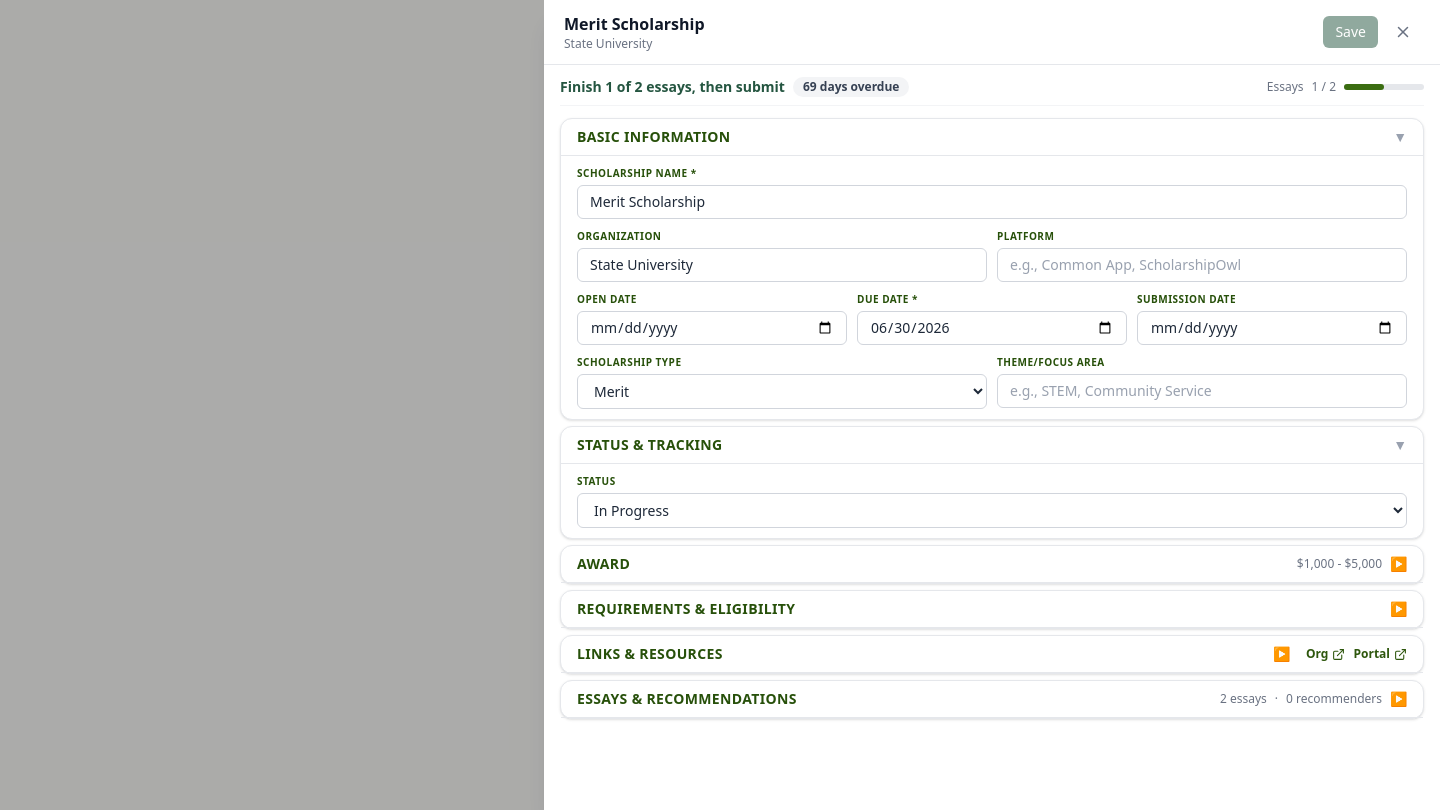
Test: ApplicationPanel › shows and clears the sticky save bar when a field changes and is discarded
Expected: the text "Unsaved changes are present." is not shown
Replace the text in the field labelled "Organization" with "Updated University" at (782, 265), box [577, 248, 987, 282]
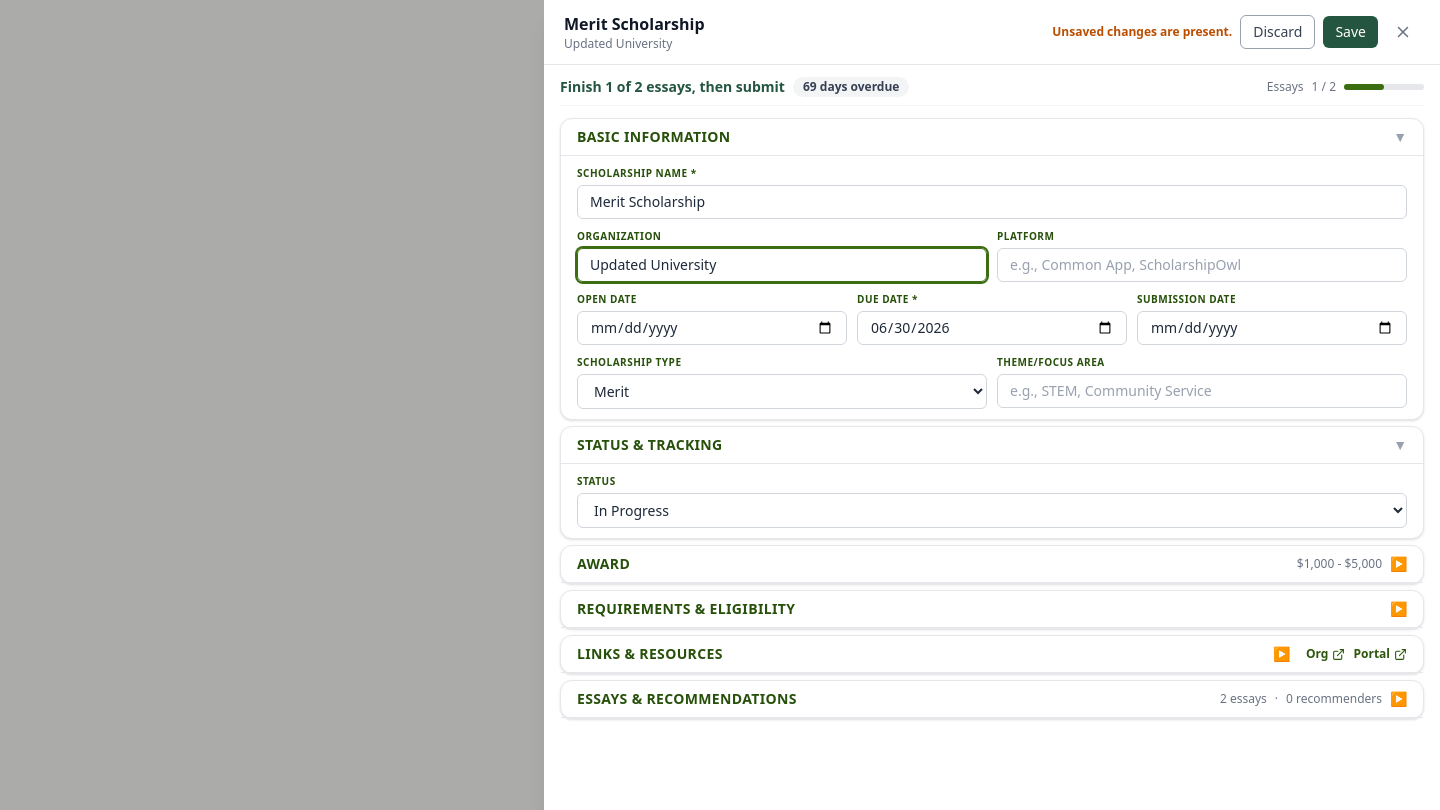
Expected: the text "Unsaved changes are present." is shown, [1052, 24, 1232, 40]
Click the button "Discard".
click(1278, 32)  # box [1240, 15, 1315, 49]
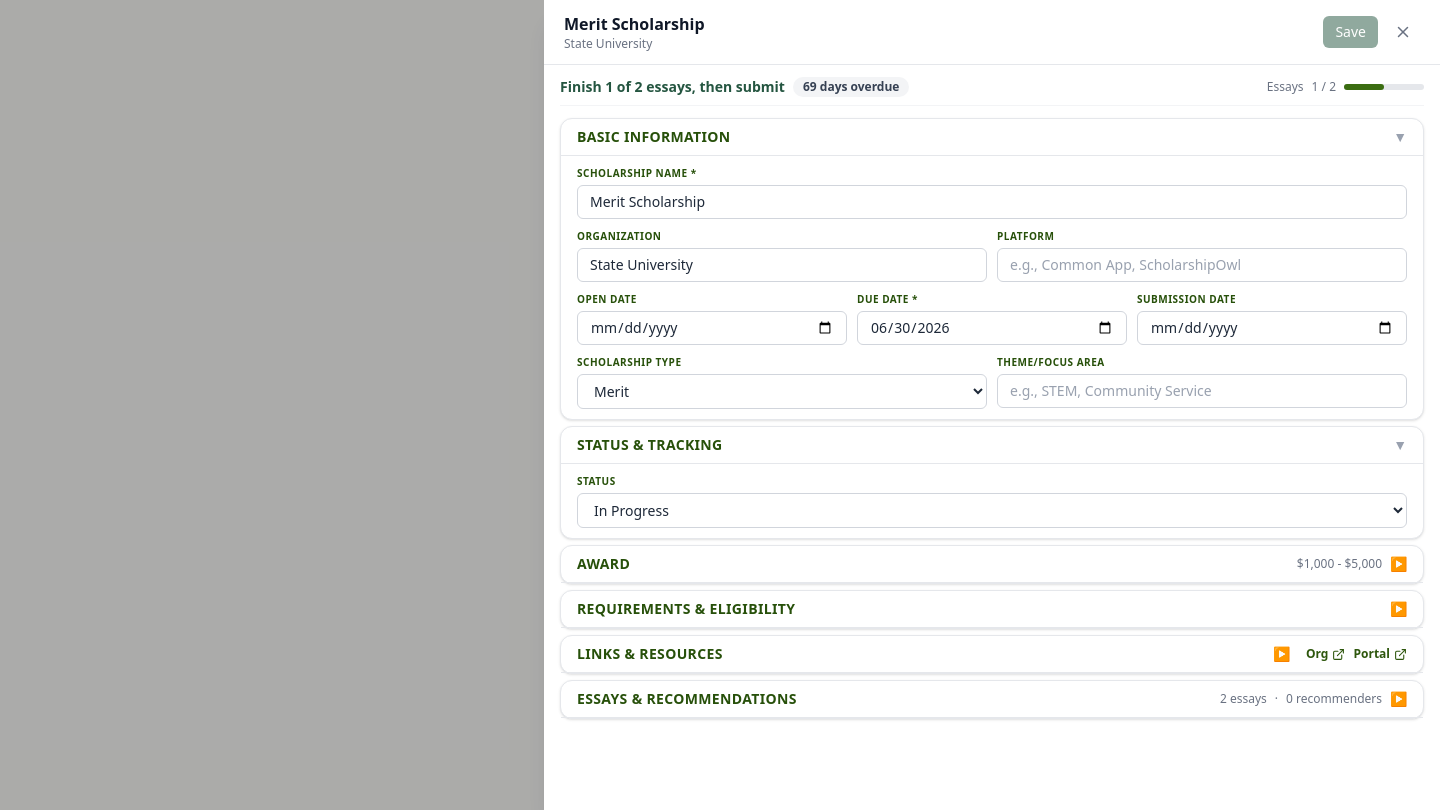
Expected: the text "Unsaved changes are present." is gone
Expected: the field labelled "Organization" holds "State University", [577, 248, 987, 282]
